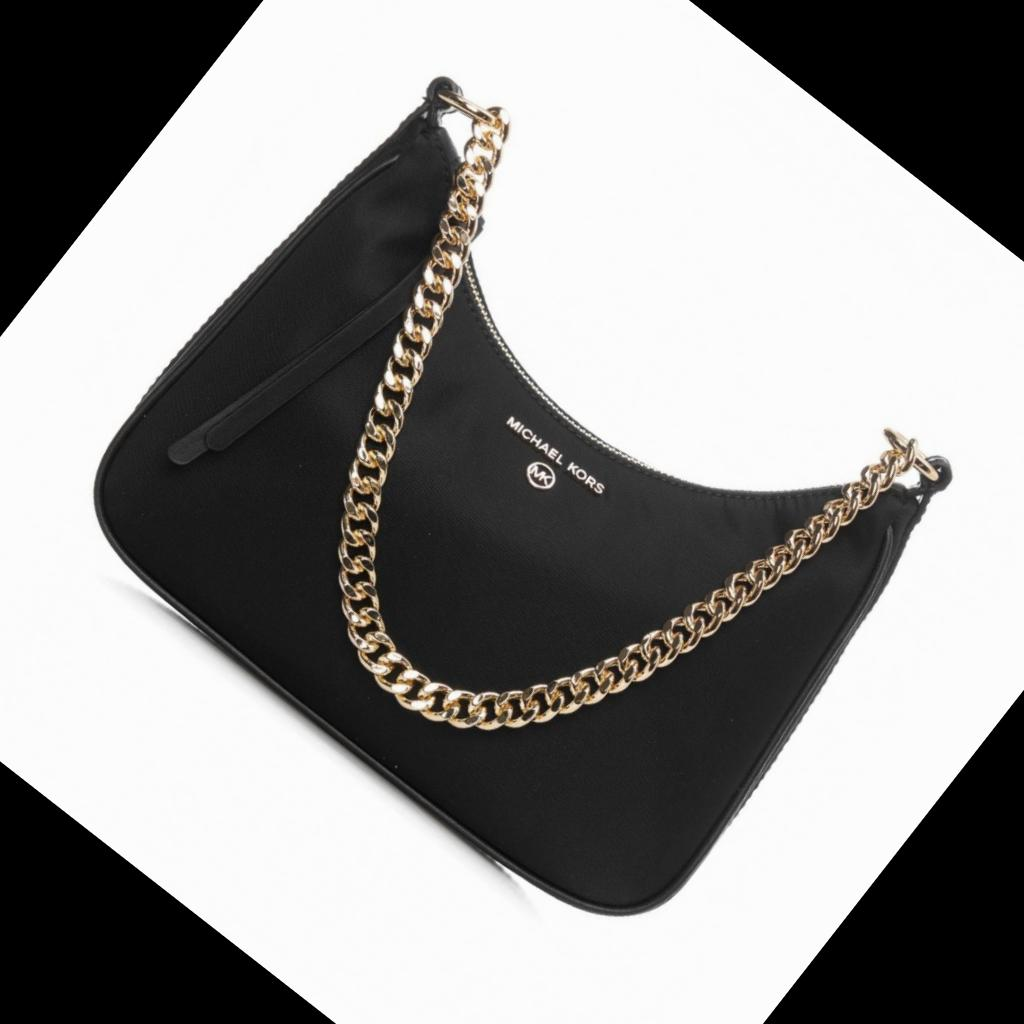MICHAEL-KORS: (505, 414, 606, 497)
